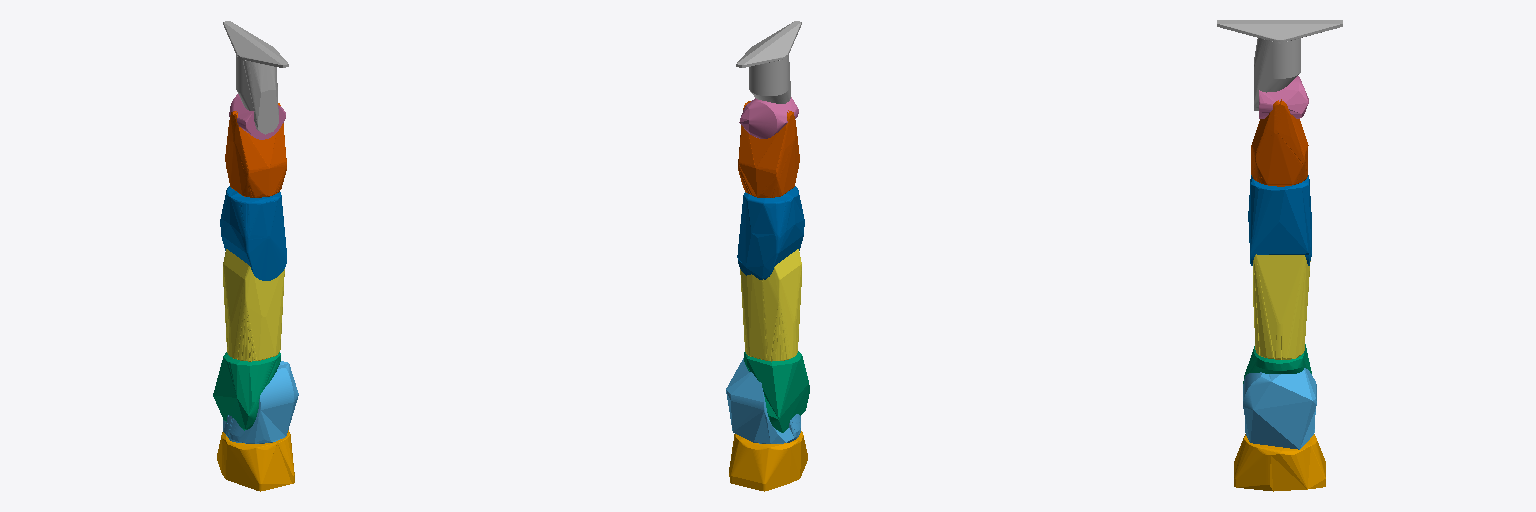
robot.urdf — openarm:
<?xml version="1.0"?>
<!-- Kinematic URDF derived from RynnMotion openarm_pinocchio.xml. -->
<robot name="openarm">
  <link name="base">
    <visual><geometry><mesh filename="assets/openarm/link0.stl" scale="0.001 -0.001 0.001"/></geometry></visual>
  </link>
  <link name="link1">
    <visual><origin xyz="0 0 -0.0625" rpy="0 0 0"/><geometry><mesh filename="assets/openarm/link1.stl" scale="0.001 -0.001 0.001"/></geometry></visual>
  </link>
  <link name="link2">
    <visual><origin xyz="0.0301 0 -0.1225" rpy="0 0 0"/><geometry><mesh filename="assets/openarm/link2.stl" scale="0.001 -0.001 0.001"/></geometry></visual>
  </link>
  <link name="link3">
    <visual><origin xyz="0 0 -0.18875" rpy="0 0 0"/><geometry><mesh filename="assets/openarm/link3.stl" scale="0.001 -0.001 0.001"/></geometry></visual>
  </link>
  <link name="link4">
    <visual><origin xyz="0 -0.0315 -0.3425" rpy="0 0 0"/><geometry><mesh filename="assets/openarm/link4.stl" scale="0.001 0.001 0.001"/></geometry></visual>
  </link>
  <link name="link5">
    <visual><origin xyz="0 0 -0.438" rpy="0 0 0"/><geometry><mesh filename="assets/openarm/link5.stl" scale="0.001 -0.001 0.001"/></geometry></visual>
  </link>
  <link name="link6">
    <visual><origin xyz="-0.0375 0 -0.5585" rpy="0 0 0"/><geometry><mesh filename="assets/openarm/link6.stl" scale="0.001 -0.001 0.001"/></geometry></visual>
  </link>
  <link name="link7">
    <visual><origin xyz="0 0 -0.5585" rpy="0 0 0"/><geometry><mesh filename="assets/openarm/link7.stl" scale="0.001 -0.001 0.001"/></geometry></visual>
    <visual><origin xyz="0 0 -0.5584" rpy="0 0 0"/><geometry><mesh filename="assets/openarm/hand.stl" scale="0.001 0.001 0.001"/></geometry></visual>
  </link>
  <link name="EE"/>
  <joint name="joint1" type="revolute">
    <parent link="base"/><child link="link1"/>
    <origin xyz="0 0 0.0625" rpy="0 0 0"/><axis xyz="0 0 1"/>
    <limit lower="-3.49066" upper="1.39626" effort="40" velocity="2"/>
  </joint>
  <joint name="joint2" type="revolute">
    <parent link="link1"/><child link="link2"/>
    <origin xyz="-0.0301 0 0.06" rpy="0 0 0"/><axis xyz="-1 0 0"/>
    <limit lower="-1.74533" upper="1.74533" effort="40" velocity="2"/>
  </joint>
  <joint name="joint3" type="revolute">
    <parent link="link2"/><child link="link3"/>
    <origin xyz="0.0301 0 0.06625" rpy="0 0 0"/><axis xyz="0 0 1"/>
    <limit lower="-1.5708" upper="1.5708" effort="27" velocity="2"/>
  </joint>
  <joint name="joint4" type="revolute">
    <parent link="link3"/><child link="link4"/>
    <origin xyz="0 0.0315 0.15375" rpy="0 0 0"/><axis xyz="0 1 0"/>
    <limit lower="0" upper="2.44346" effort="27" velocity="2"/>
  </joint>
  <joint name="joint5" type="revolute">
    <parent link="link4"/><child link="link5"/>
    <origin xyz="0 -0.0315 0.0955" rpy="0 0 0"/><axis xyz="0 0 1"/>
    <limit lower="-1.5708" upper="1.5708" effort="7" velocity="2"/>
  </joint>
  <joint name="joint6" type="revolute">
    <parent link="link5"/><child link="link6"/>
    <origin xyz="0.0375 0 0.1205" rpy="0 0 0"/><axis xyz="1 0 0"/>
    <limit lower="-0.785398" upper="0.785398" effort="7" velocity="2"/>
  </joint>
  <joint name="joint7" type="revolute">
    <parent link="link6"/><child link="link7"/>
    <origin xyz="-0.0375 0 0" rpy="0 0 0"/><axis xyz="0 -1 0"/>
    <limit lower="-1.5708" upper="1.5708" effort="7" velocity="2"/>
  </joint>
  <joint name="ee_fixed" type="fixed">
    <parent link="link7"/><child link="EE"/>
    <origin xyz="0 0 0.19" rpy="0 0 0"/>
  </joint>
</robot>

--- Render facts (derived) ---
The picture shows the robot from 3 angles, left to right: view 1: azimuth 30°, elevation 25°; view 2: azimuth 150°, elevation 25°; view 3: azimuth 270°, elevation 25°; orthographic projection.
Model openarm with 9 links and 8 joints (7 revolute, 1 fixed), rooted at base, posed all joints at 0.
Visible links, largest first — view 1: link3, link4, link7, link5, base, link2, link1, link6; view 2: link3, link4, link5, base, link2, link1, link7, link6; view 3: link3, link1, link4, link7, base, link5, link6, link2.
Link boxes in pixels (x1=…): link3: x1=223, y1=249, x2=284, y2=361; link4: x1=220, y1=186, x2=286, y2=280; link7: x1=223, y1=21, x2=288, y2=134; link5: x1=225, y1=103, x2=286, y2=197; base: x1=217, y1=430, x2=294, y2=491; link2: x1=213, y1=352, x2=280, y2=430; link1: x1=223, y1=361, x2=298, y2=443; link6: x1=229, y1=94, x2=285, y2=139; link3: x1=740, y1=249, x2=801, y2=361; link4: x1=737, y1=186, x2=804, y2=279; link5: x1=738, y1=101, x2=799, y2=197; base: x1=729, y1=431, x2=807, y2=491; link2: x1=744, y1=351, x2=809, y2=432; link1: x1=726, y1=358, x2=800, y2=443; link7: x1=736, y1=21, x2=801, y2=103; link6: x1=739, y1=97, x2=798, y2=138; link3: x1=1253, y1=254, x2=1310, y2=359; link1: x1=1243, y1=368, x2=1316, y2=449; link4: x1=1248, y1=175, x2=1311, y2=265; link7: x1=1217, y1=20, x2=1342, y2=110; base: x1=1234, y1=434, x2=1325, y2=491; link5: x1=1251, y1=99, x2=1308, y2=186; link6: x1=1259, y1=76, x2=1308, y2=118; link2: x1=1243, y1=344, x2=1311, y2=383.
Size in the robot's own frame: 0.0999 by 0.1681 by 0.6691 metres.
Meshes: 9 distinct files referenced, 9 mesh visuals loaded (9 binary STL).
